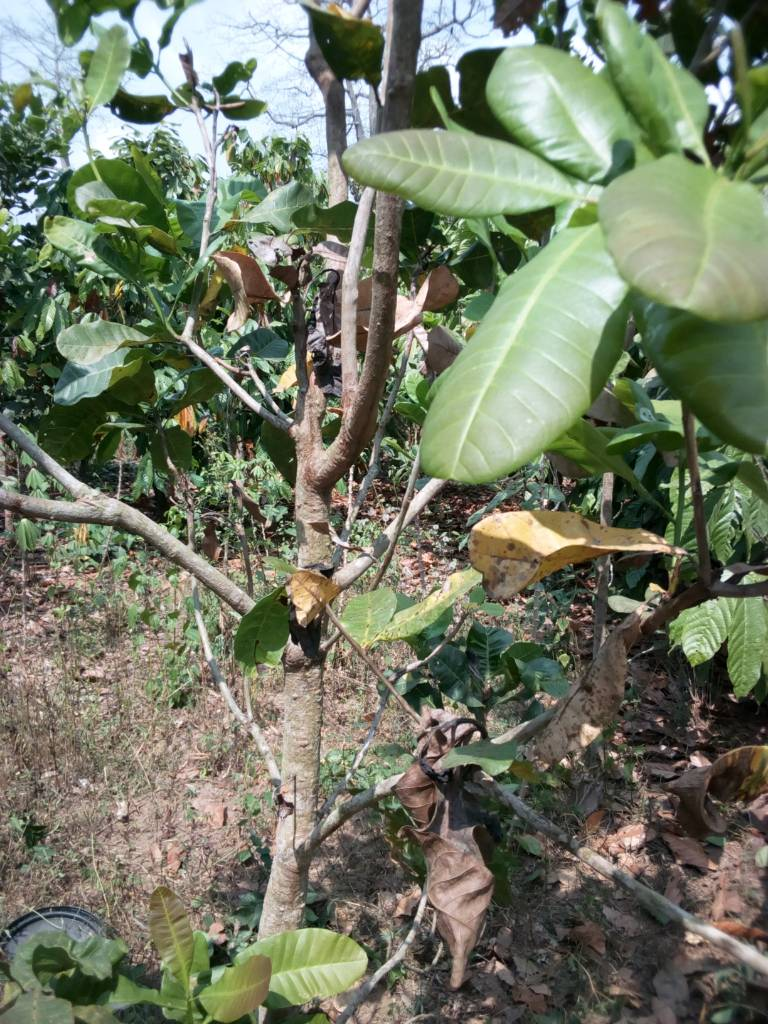Dessèchement des bourgeons: (399, 713, 477, 854)
